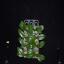leaf: (17, 47, 25, 56), (18, 37, 26, 46), (18, 29, 26, 38), (28, 38, 36, 47), (27, 49, 36, 56), (26, 29, 35, 36), (36, 34, 46, 40), (37, 41, 45, 48), (21, 21, 27, 30), (25, 52, 34, 58), (36, 54, 45, 60), (19, 23, 26, 30), (36, 26, 44, 32), (27, 25, 36, 30), (17, 52, 25, 57), (26, 37, 32, 43), (37, 56, 42, 62), (26, 44, 32, 49), (36, 30, 43, 33), (20, 45, 26, 48), (37, 44, 41, 48), (36, 54, 40, 57), (36, 27, 38, 30)
